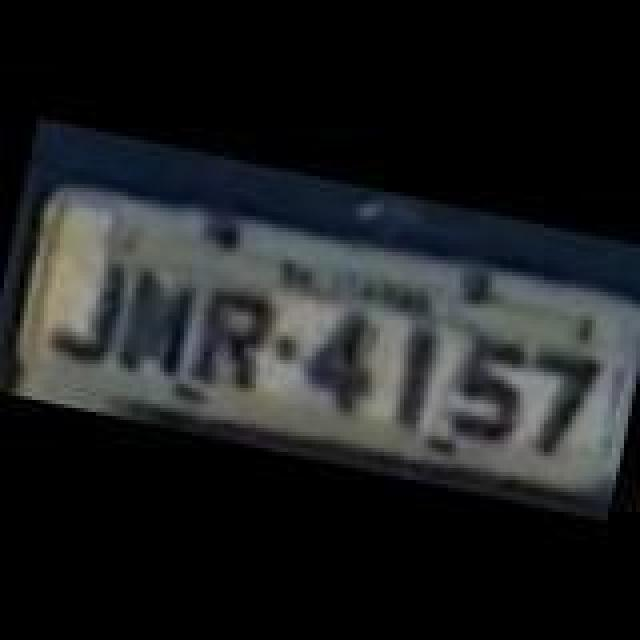1: (384, 318, 448, 434)
4: (300, 298, 388, 422)
5: (444, 332, 532, 452)
7: (516, 346, 604, 462)
J: (44, 246, 132, 370)
M: (110, 264, 210, 392)
R: (188, 280, 276, 400)
